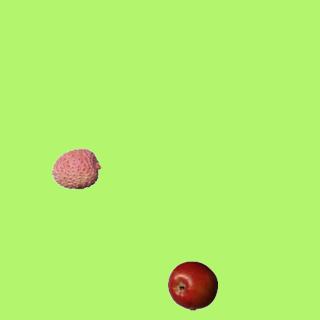Apple Braeburn: (167, 260, 217, 310)
Lychee: (51, 143, 101, 193)
